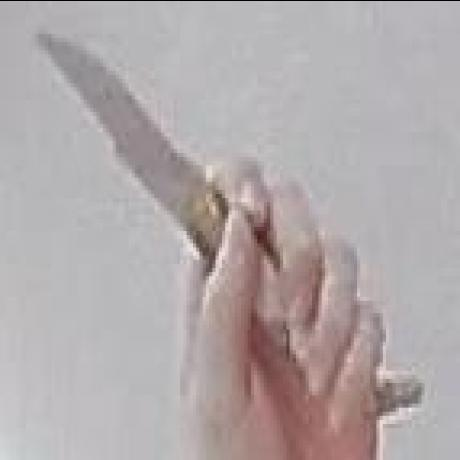1: (171, 152, 387, 460)
weapon: (34, 26, 234, 276)
